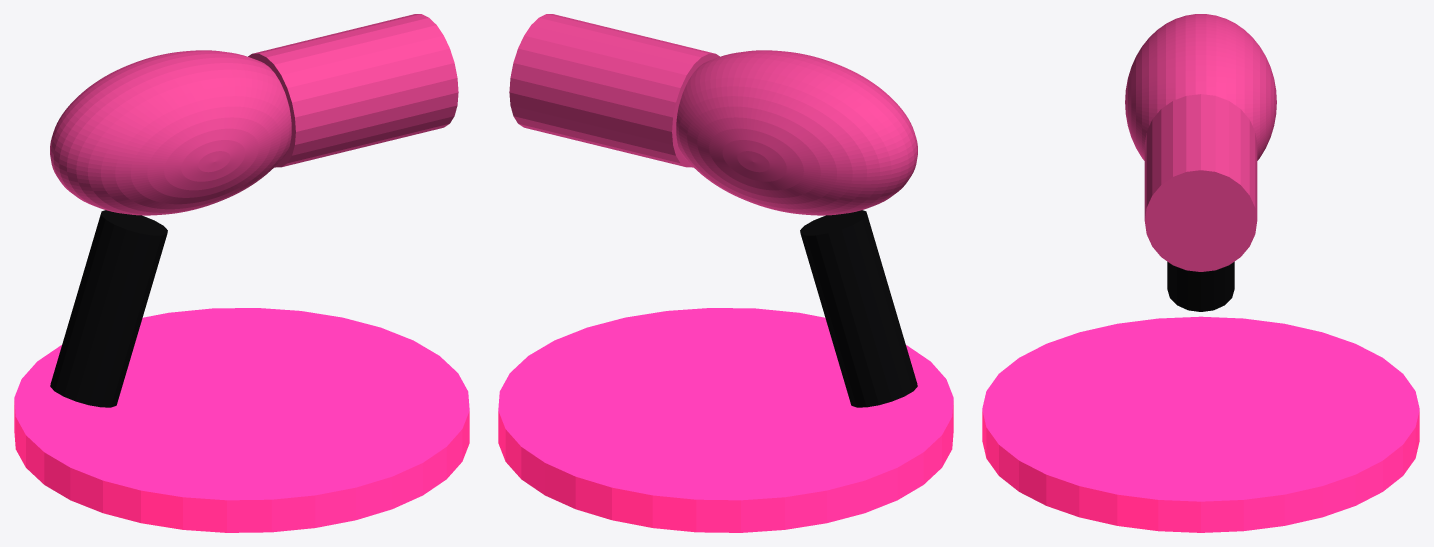
The model's file is beauty_hair_dryer.dae.
3 renders of one model, left to right at view 1: azimuth 30°, elevation 25°; view 2: azimuth 150°, elevation 25°; view 3: azimuth 270°, elevation 25°, orthographic. The views are drawn at different scales.
Visible parts, largest first — view 1: 03_16_Popular_Beauty_Hair_Dryer_ROOT_base, 03_16_Popular_Beauty_Hair_Dryer_part_01, 03_16_Popular_Beauty_Hair_Dryer_part_02, 03_16_Popular_Beauty_Hair_Dryer_part_03; view 2: 03_16_Popular_Beauty_Hair_Dryer_ROOT_base, 03_16_Popular_Beauty_Hair_Dryer_part_01, 03_16_Popular_Beauty_Hair_Dryer_part_02, 03_16_Popular_Beauty_Hair_Dryer_part_03; view 3: 03_16_Popular_Beauty_Hair_Dryer_ROOT_base, 03_16_Popular_Beauty_Hair_Dryer_part_02, 03_16_Popular_Beauty_Hair_Dryer_part_01, 03_16_Popular_Beauty_Hair_Dryer_part_03.
Part boxes in pixels (box(x1,y1,x2,y2)): 03_16_Popular_Beauty_Hair_Dryer_ROOT_base: box(14, 308, 469, 532); 03_16_Popular_Beauty_Hair_Dryer_part_01: box(50, 50, 291, 215); 03_16_Popular_Beauty_Hair_Dryer_part_02: box(248, 14, 458, 167); 03_16_Popular_Beauty_Hair_Dryer_part_03: box(50, 210, 167, 407); 03_16_Popular_Beauty_Hair_Dryer_ROOT_base: box(498, 308, 953, 532); 03_16_Popular_Beauty_Hair_Dryer_part_01: box(676, 50, 917, 215); 03_16_Popular_Beauty_Hair_Dryer_part_02: box(509, 14, 719, 167); 03_16_Popular_Beauty_Hair_Dryer_part_03: box(800, 210, 917, 407); 03_16_Popular_Beauty_Hair_Dryer_ROOT_base: box(982, 316, 1419, 532); 03_16_Popular_Beauty_Hair_Dryer_part_02: box(1144, 94, 1257, 271); 03_16_Popular_Beauty_Hair_Dryer_part_01: box(1125, 14, 1276, 160); 03_16_Popular_Beauty_Hair_Dryer_part_03: box(1167, 261, 1234, 311).
Size of the model in its own units: 0.76 by 0.7198 by 0.76.
